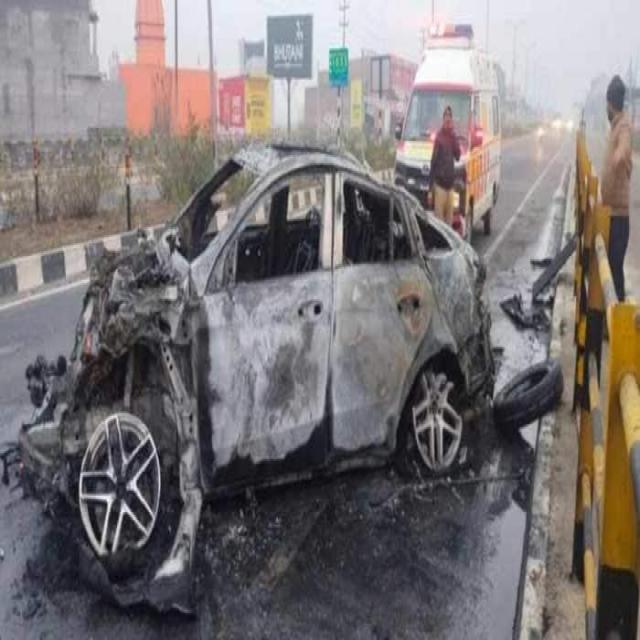accident: (19, 144, 565, 609)
emergency: (395, 26, 501, 240)
